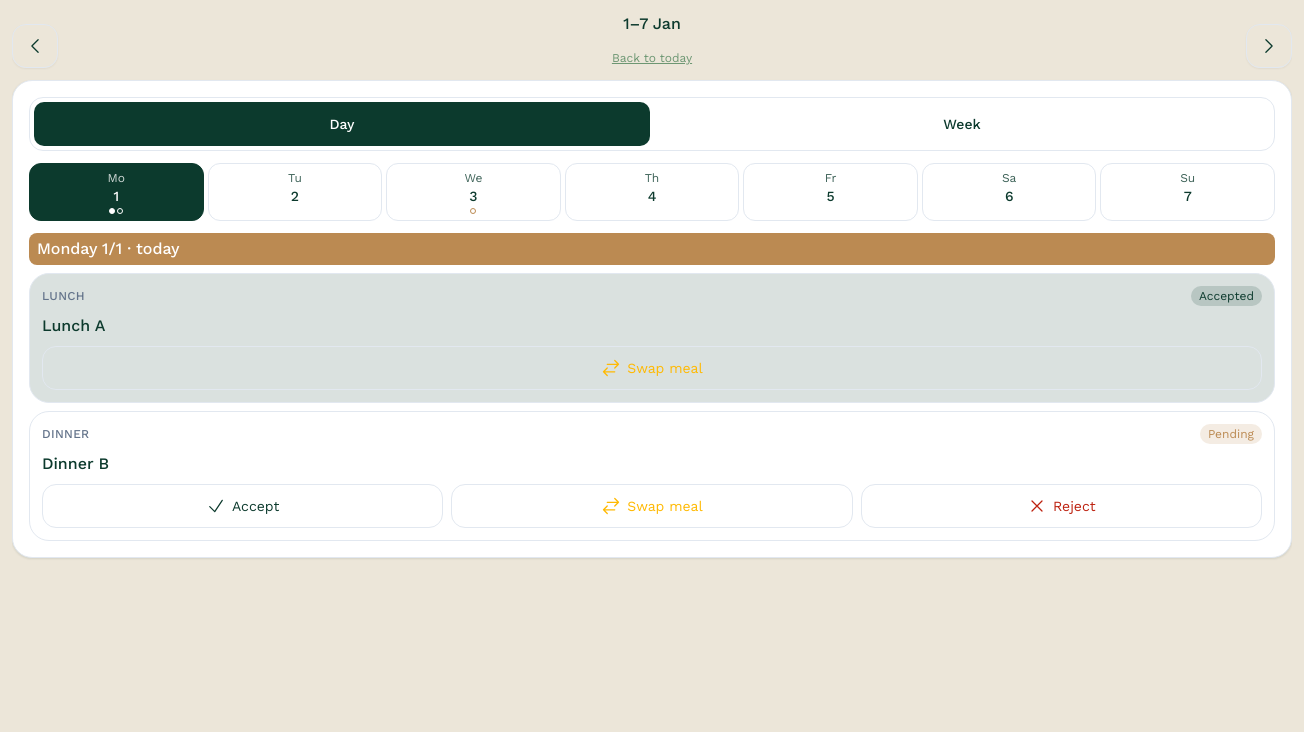
Scenario: tapping a day in the strip switches the day shown
expect the text "Wednesday lunch" is not shown: met
Click the button with test id "day-strip-day" showing "We 3". click: (474, 192)
box: [386,163,561,221]
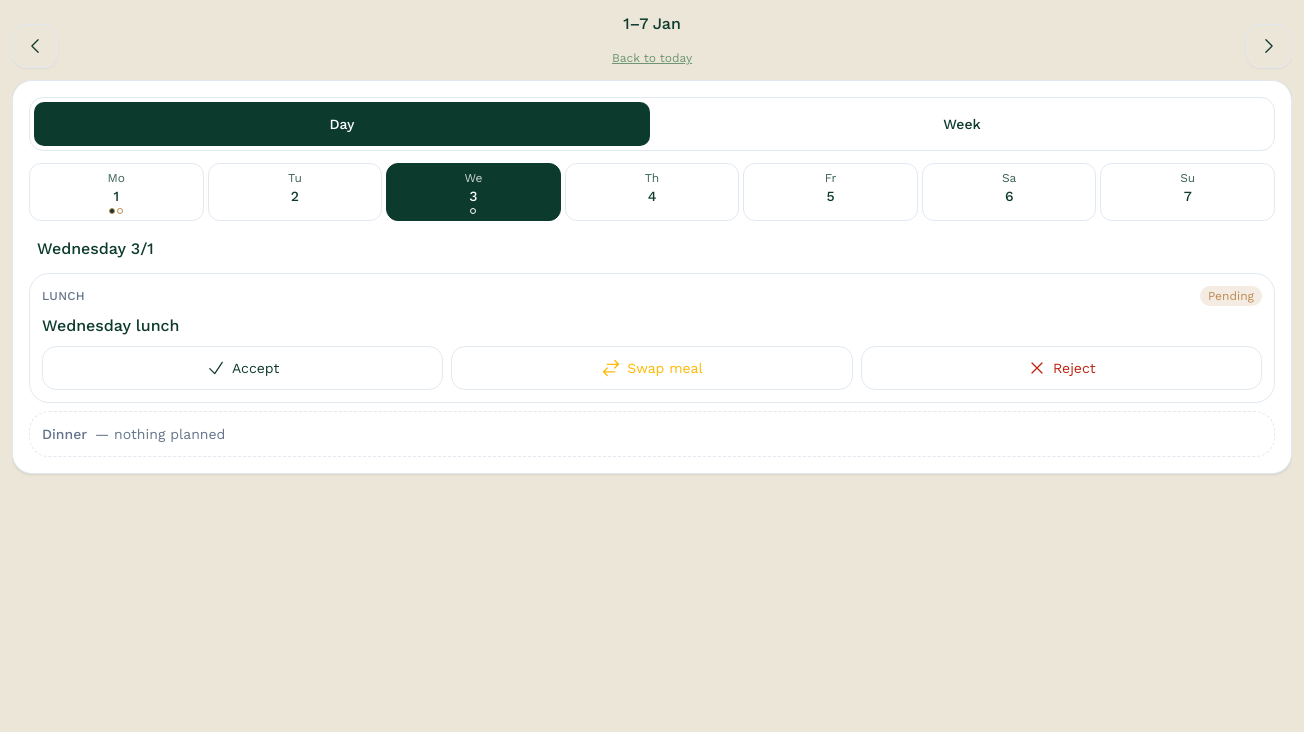
expect the text "Wednesday lunch" is shown: met, box [42,316,180,335]
